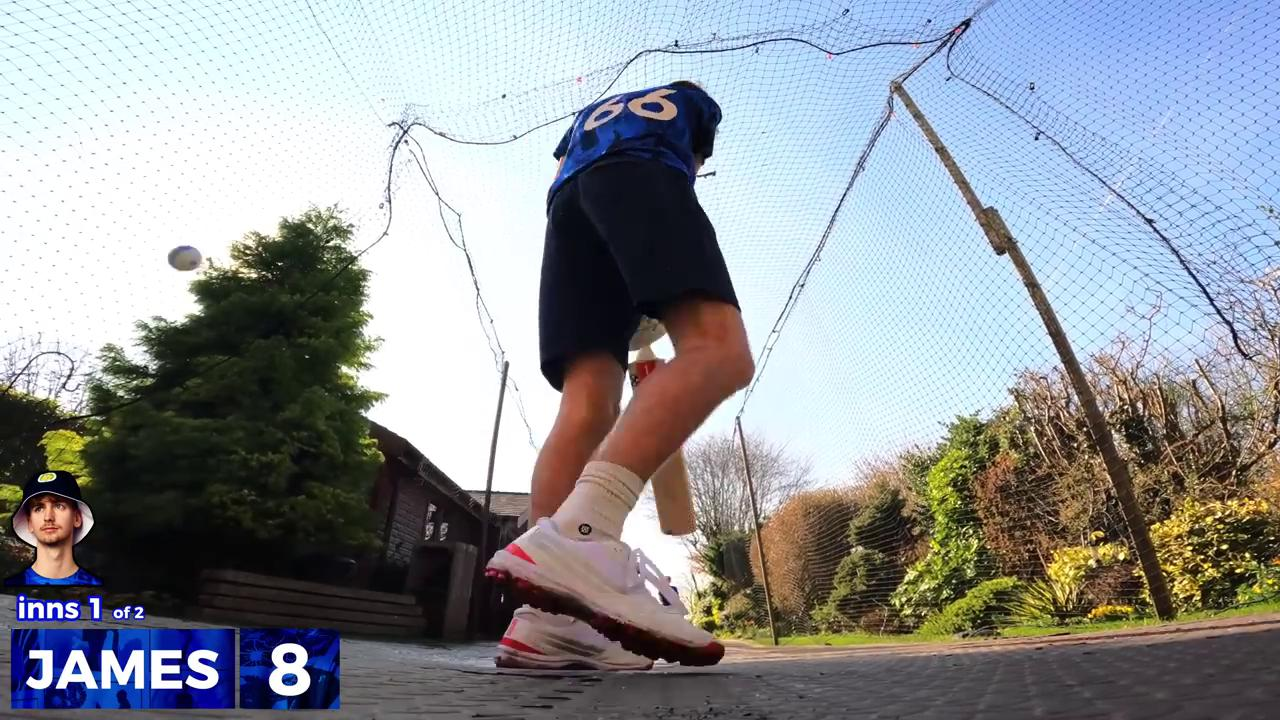ball: (164, 240, 208, 275)
